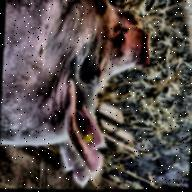boar: (0, 0, 152, 192)
